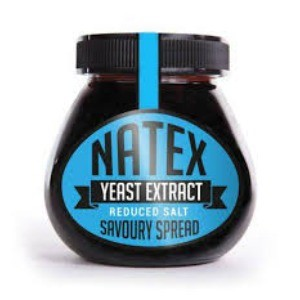yeast spread_brain food: (48, 66, 244, 241)
